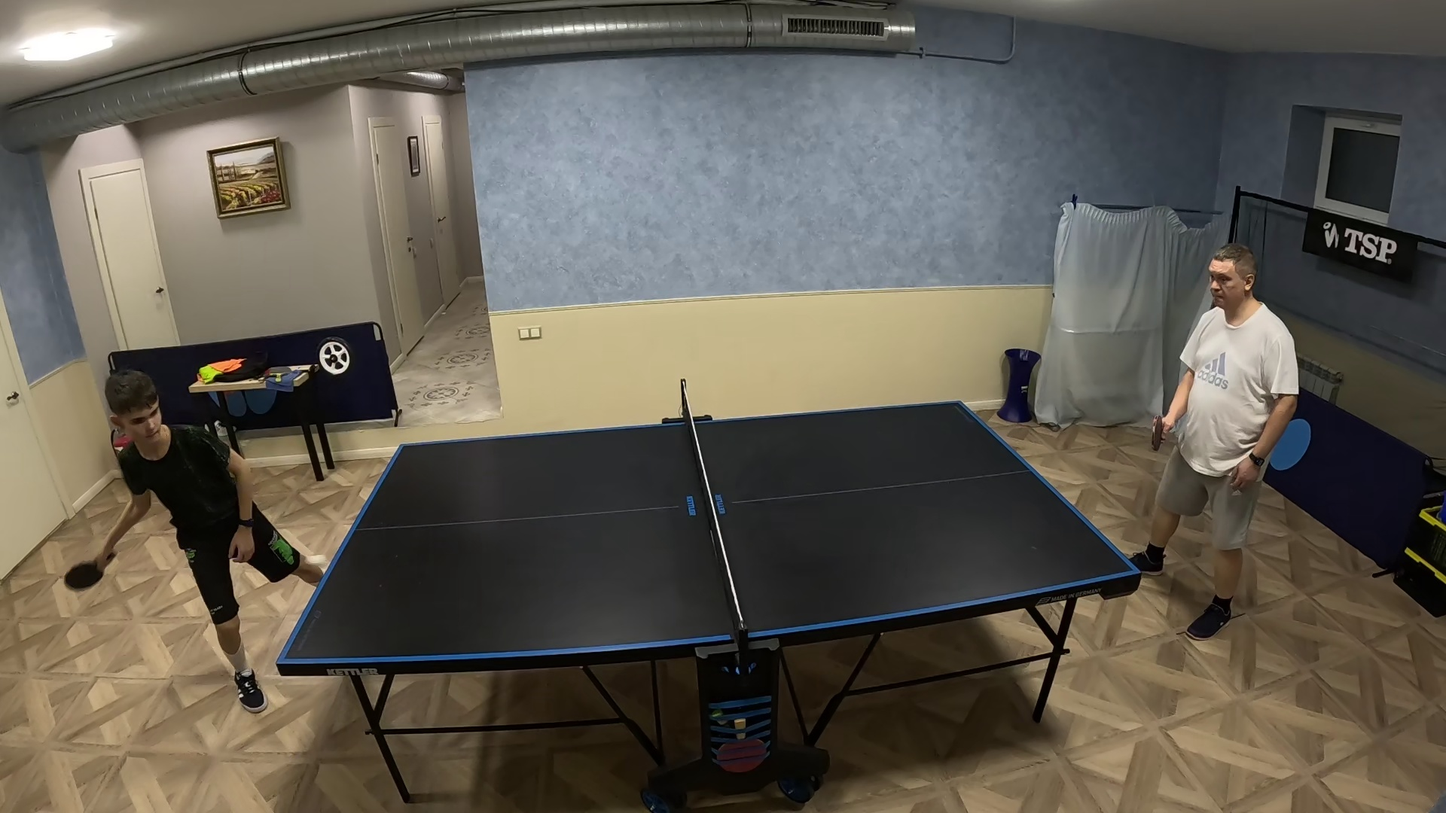Ball: (305, 555, 325, 563)
